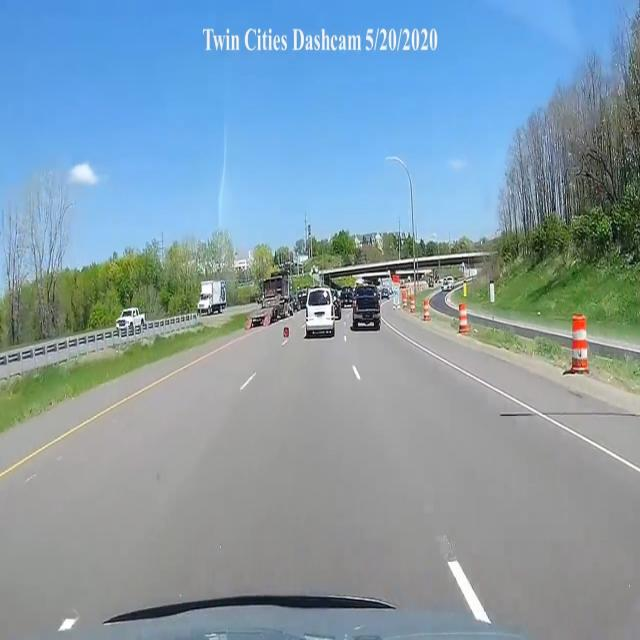Traffic Cone: (282, 322, 290, 342)
